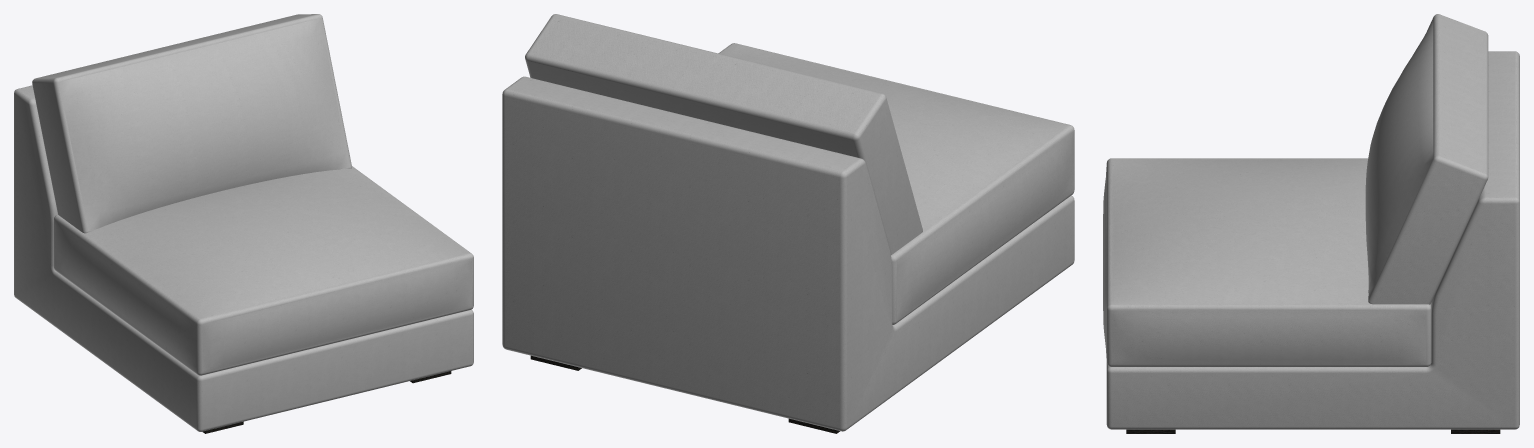
Rendered from sessel.dae.
The picture shows the model from 3 angles, left to right: view 1: azimuth 30°, elevation 25°; view 2: azimuth 150°, elevation 25°; view 3: azimuth 270°, elevation 25°; orthographic projection. The views are drawn at different scales.
Parts seen in each view (by area): view 1: group_2, group_3, group_1; view 2: group_1, group_2, group_3; view 3: group_2, group_1, group_3.
Part boxes in pixels (x1,y1,x2,y2): group_2: (54,166,473,375); group_3: (32,14,351,233); group_1: (14,85,473,431); group_1: (502,76,1074,431); group_2: (718,43,1074,324); group_3: (525,14,922,254); group_2: (1103,158,1431,366); group_1: (1106,51,1519,429); group_3: (1365,14,1488,304).
Bounding box in the file's own units: 36.73 × 42.37 × 31.67.
Materials: 2 (2 with a texture image).
